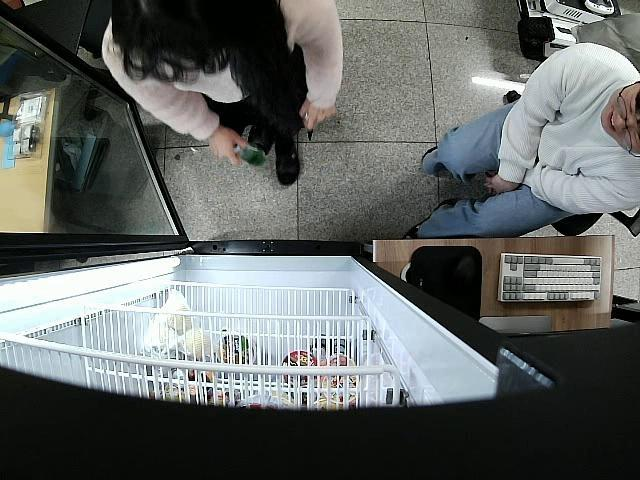18_trevi: (226, 138, 269, 172)
